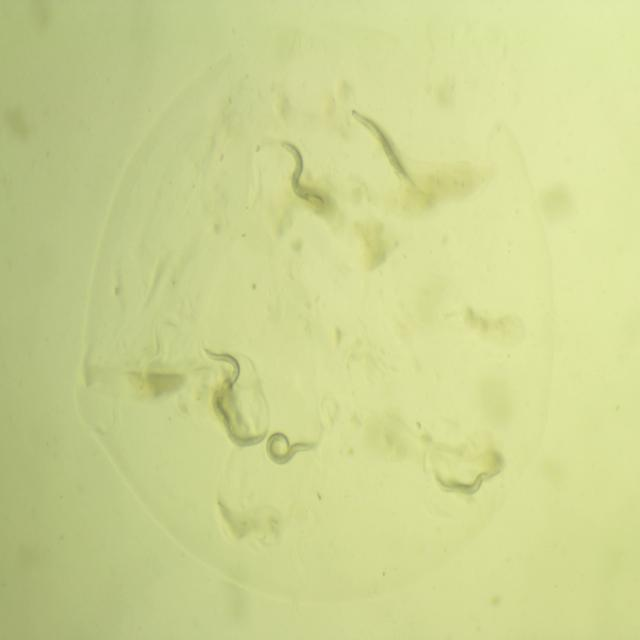worm: (345, 99, 421, 199), (193, 333, 252, 433), (268, 131, 330, 214), (208, 387, 272, 452), (428, 455, 504, 506), (261, 421, 321, 472)
